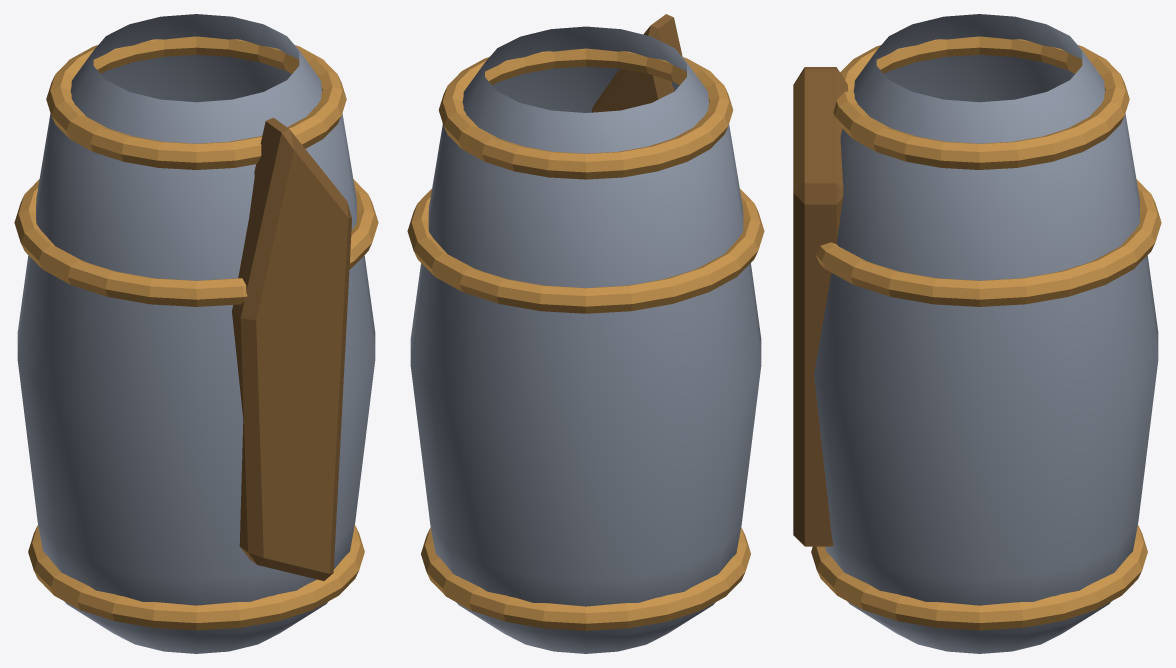
The model's file is SM_Vault_KnightGreave.fbx.
3 views of the same model, side by side, from view 1: azimuth 30°, elevation 25°; view 2: azimuth 150°, elevation 25°; view 3: azimuth 270°, elevation 25° (orthographic).
Parts seen in each view (by area): view 1: SM_Vault_KnightGreave; view 2: SM_Vault_KnightGreave; view 3: SM_Vault_KnightGreave.
Part boxes in pixels (x1,y1,x2,y2): SM_Vault_KnightGreave: (14,14,378,653); SM_Vault_KnightGreave: (407,14,764,653); SM_Vault_KnightGreave: (793,14,1161,653).
Size of the model in its own units: 16.04 by 16.22 by 27.
